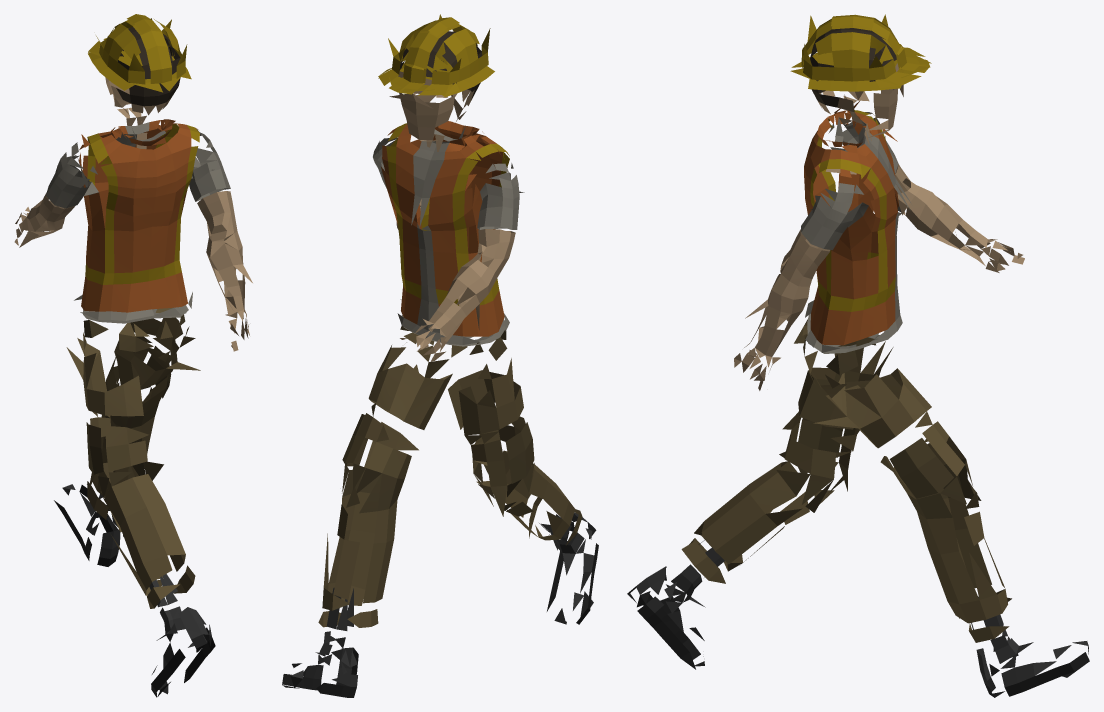
The model's file is worker_w2.fbx.
3 renders of one model, left to right at view 1: azimuth 30°, elevation 25°; view 2: azimuth 150°, elevation 25°; view 3: azimuth 270°, elevation 25°, orthographic. The views are drawn at different scales.
Parts seen in each view (by area): view 1: Worker_Feet; view 2: Worker_Feet; view 3: Worker_Feet.
Boxes of the visible parts, x1=… form: Worker_Feet: x1=14, y1=14, x2=252, y2=697; Worker_Feet: x1=282, y1=14, x2=598, y2=697; Worker_Feet: x1=627, y1=14, x2=1089, y2=697.
Size of the model in its own units: 0.2563 by 0.9873 by 0.612.
